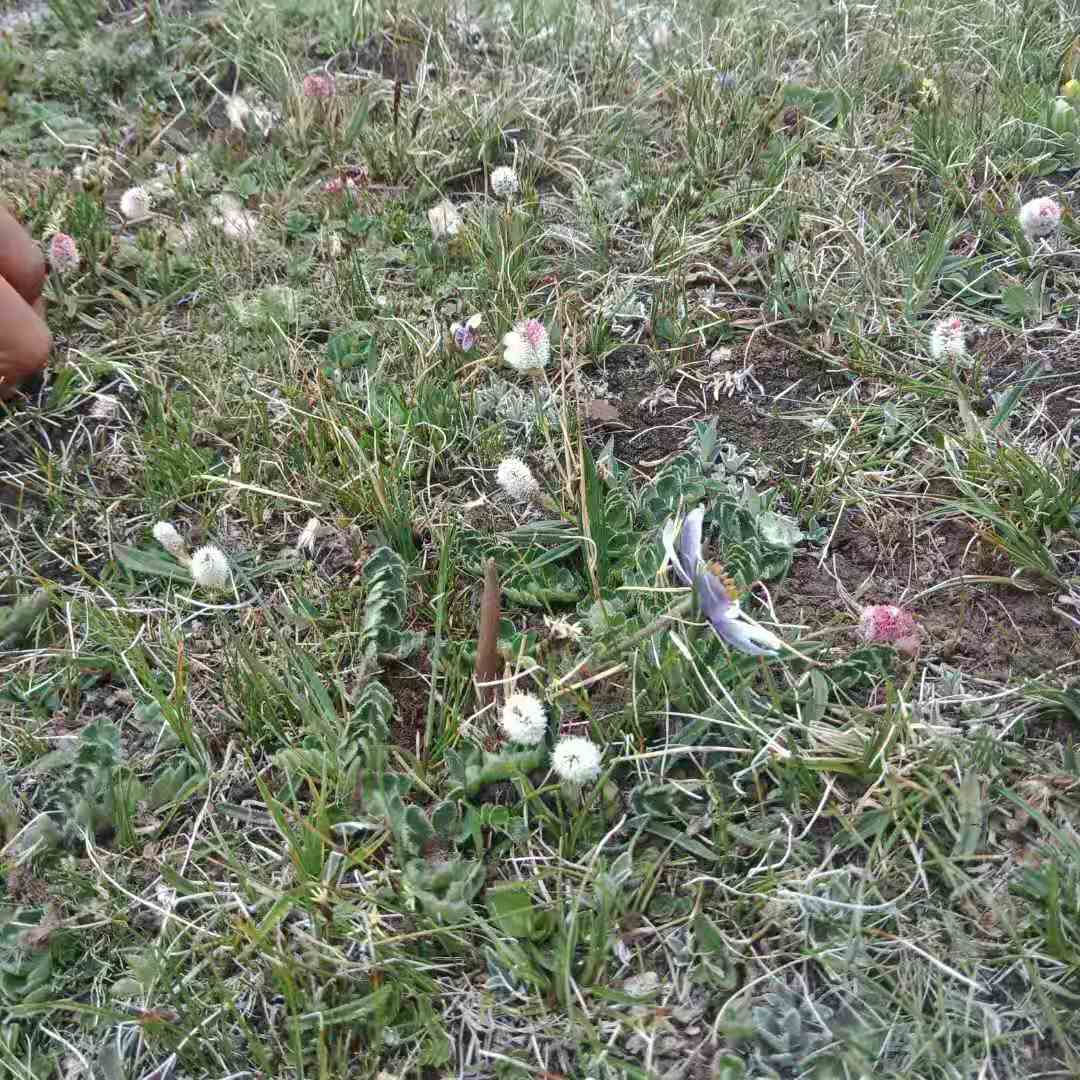Chongcao: (475, 558, 500, 693)
